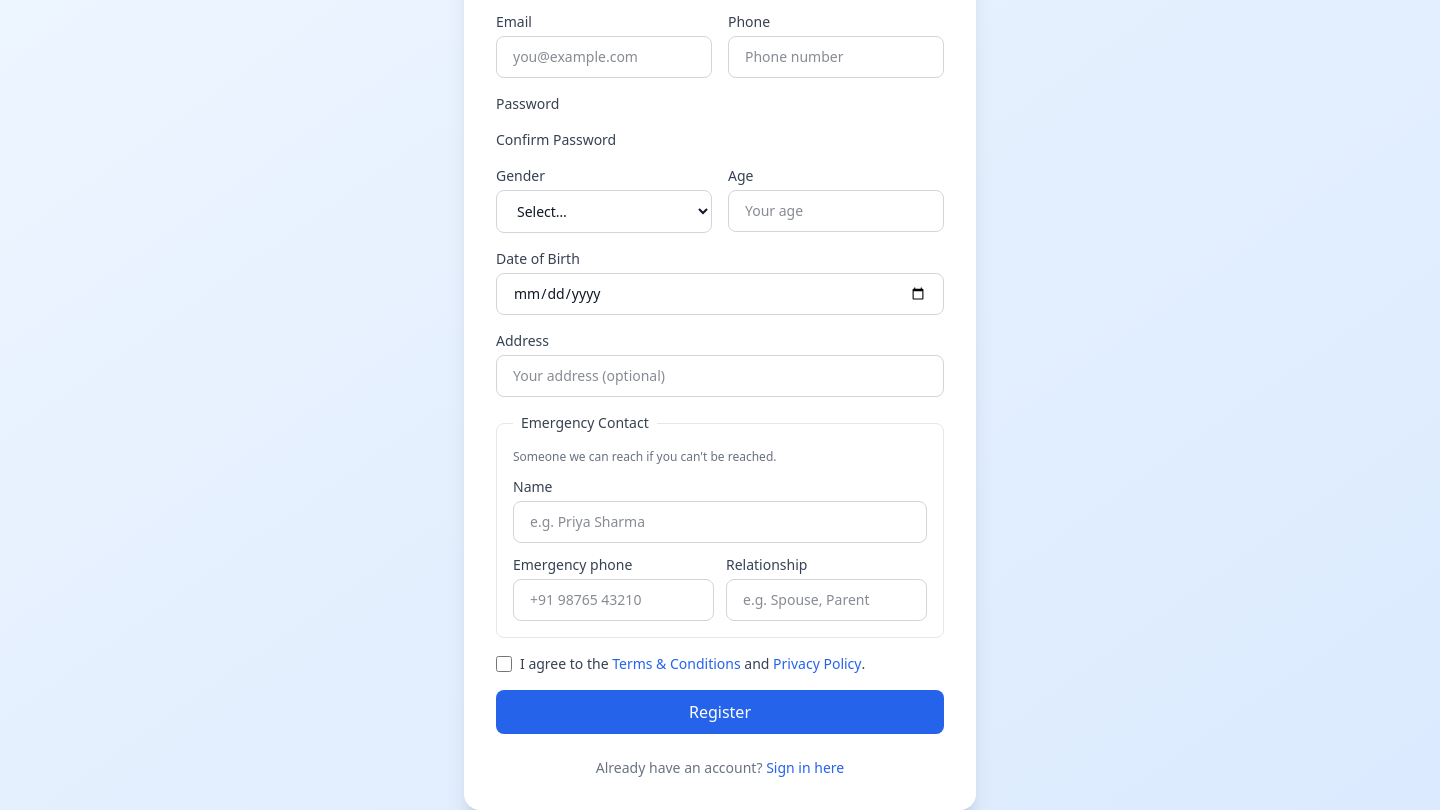
RegisterPage — noValidate + inline field errors (Issue #102 / #130) › shows every per-field inline error at once when all required fields are empty
(page scrolled)
Click the button "Register": (720, 712) [496,690,944,734]
(page scrolled)
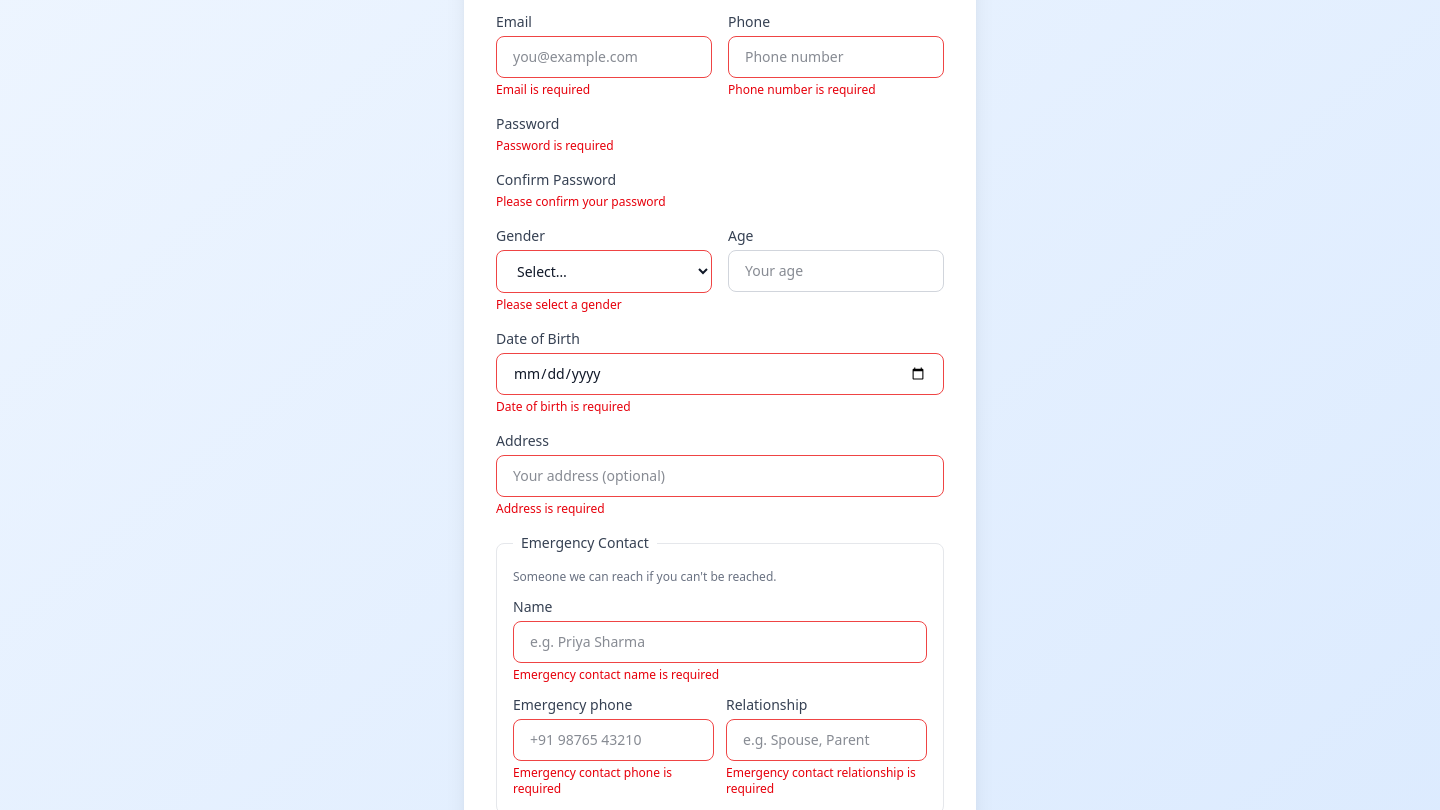
Expected: the text "Email is required" is shown, [496,81,590,98]
Expected: the text "Phone number is required" is shown, [728,81,876,98]
Expected: the text "Password is required" is shown, [496,137,614,154]
